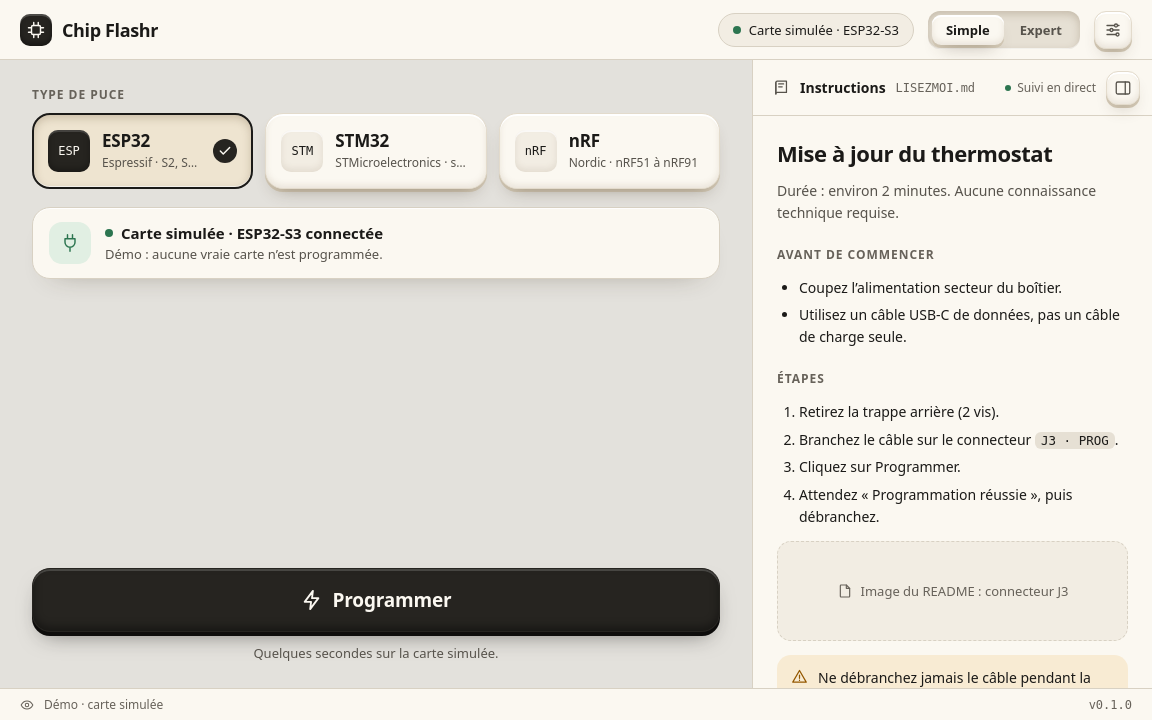
it: App › keeps the flash running while settings are open
Click the button "Programmer" at x=376, y=600, box [32,568,720,632]
Wait 100 ms
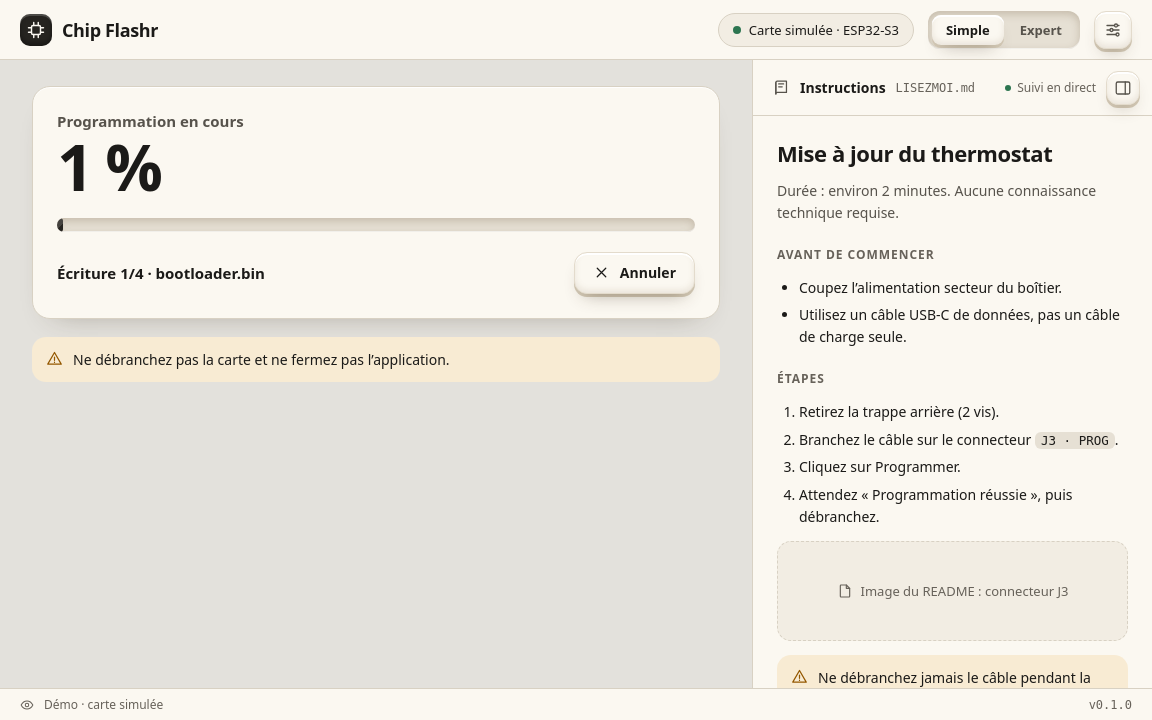
Click the button named "Réglages" at x=1113, y=30, box [1094,10,1132,48]
Wait 10000 ms
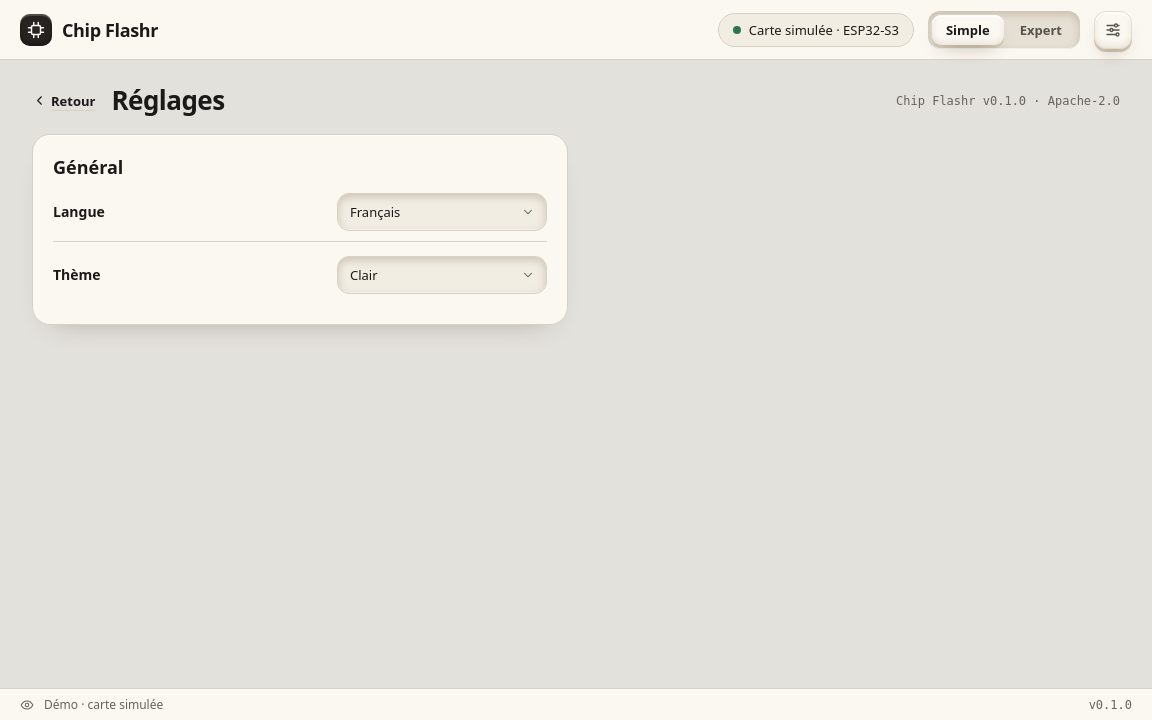
expect the heading "Réglages" is shown: met, box [111,86,225,116]
Click the button "Retour" at x=64, y=101, box [32,92,95,110]
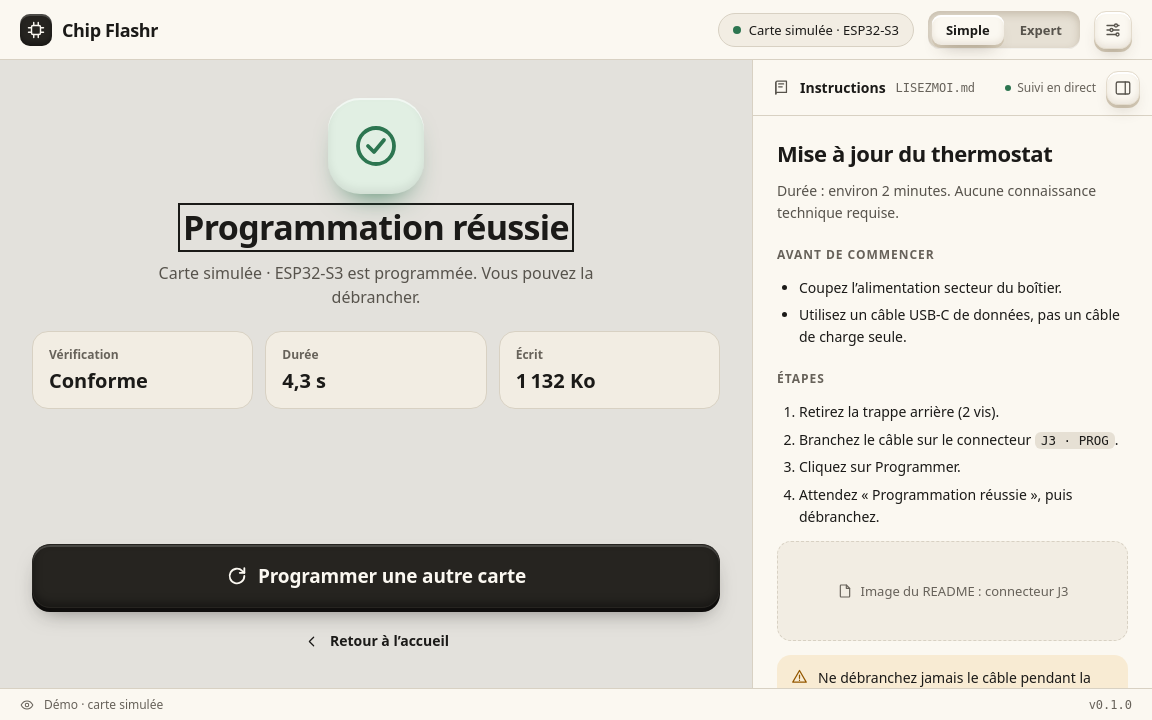
expect the heading "Programmation réussie" is shown: met, box [183,208,569,247]
